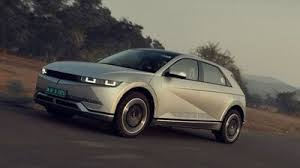Honda Ioniq: (22, 38, 249, 157)
